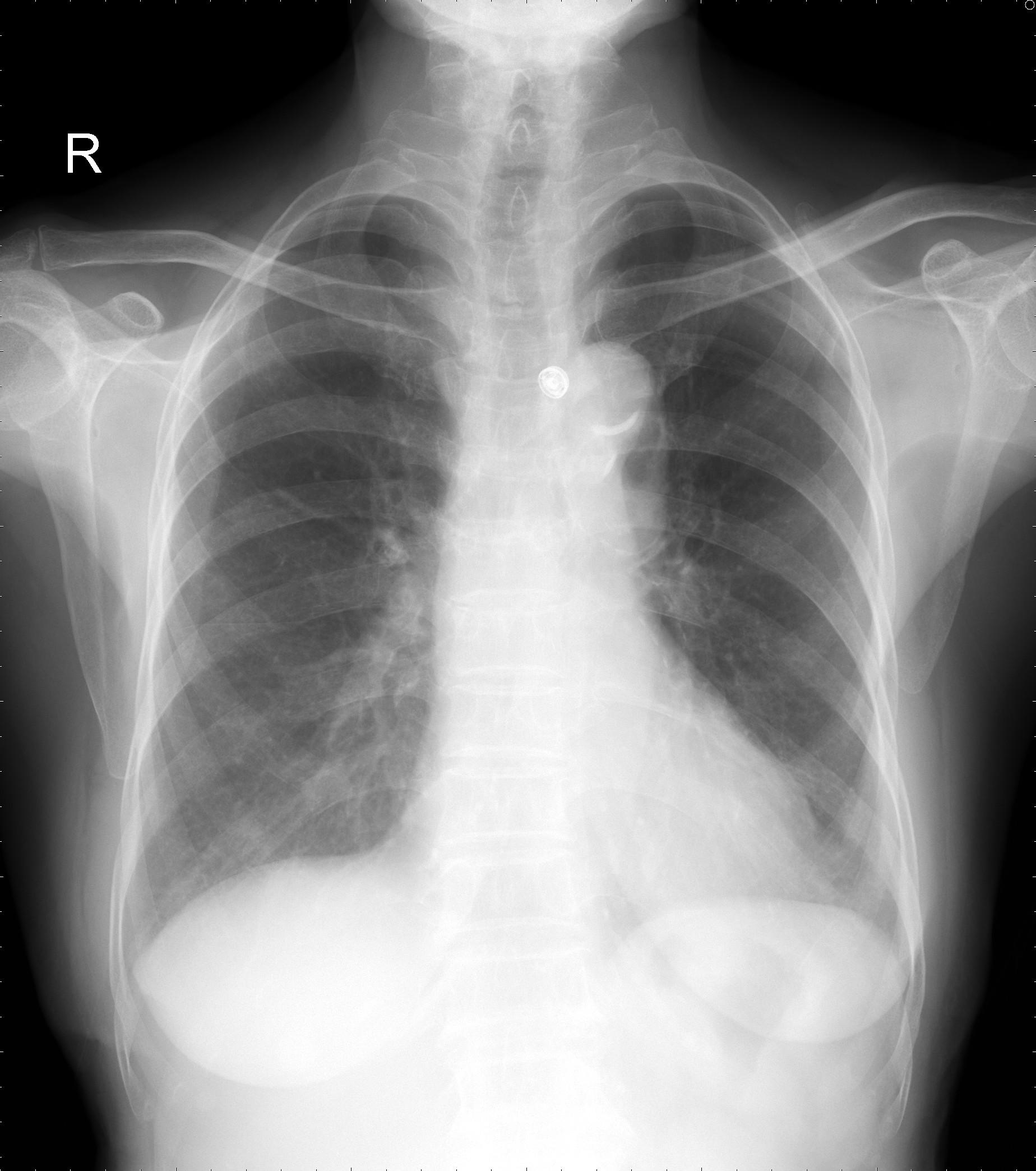Aortic enlargement: (545, 342, 656, 460)
Cardiomegaly: (389, 792, 832, 896)
